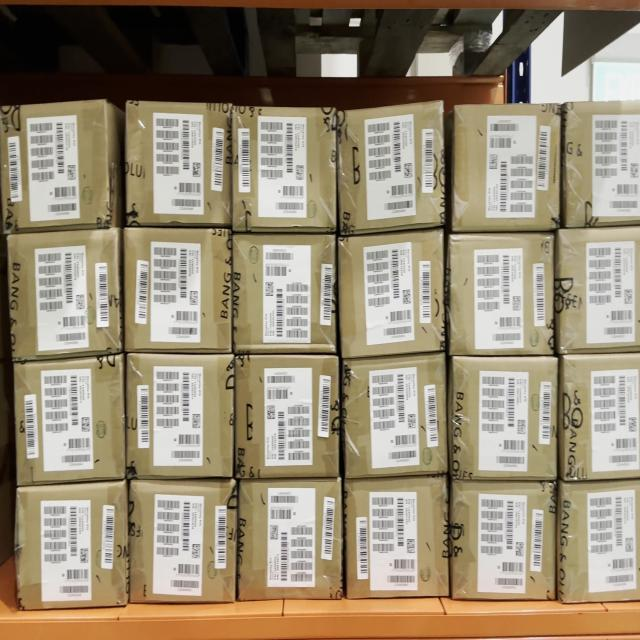box: (453, 106, 560, 228), (125, 231, 231, 352), (4, 106, 106, 230), (127, 356, 233, 475), (234, 108, 336, 230), (20, 488, 125, 606), (15, 366, 125, 478), (13, 237, 117, 353), (128, 106, 231, 223), (454, 482, 556, 600), (131, 483, 233, 601), (454, 360, 556, 477), (341, 110, 442, 228), (345, 481, 449, 595), (237, 357, 338, 474), (240, 482, 342, 596), (234, 234, 335, 349), (340, 239, 444, 349), (450, 237, 552, 349), (347, 362, 445, 476)
